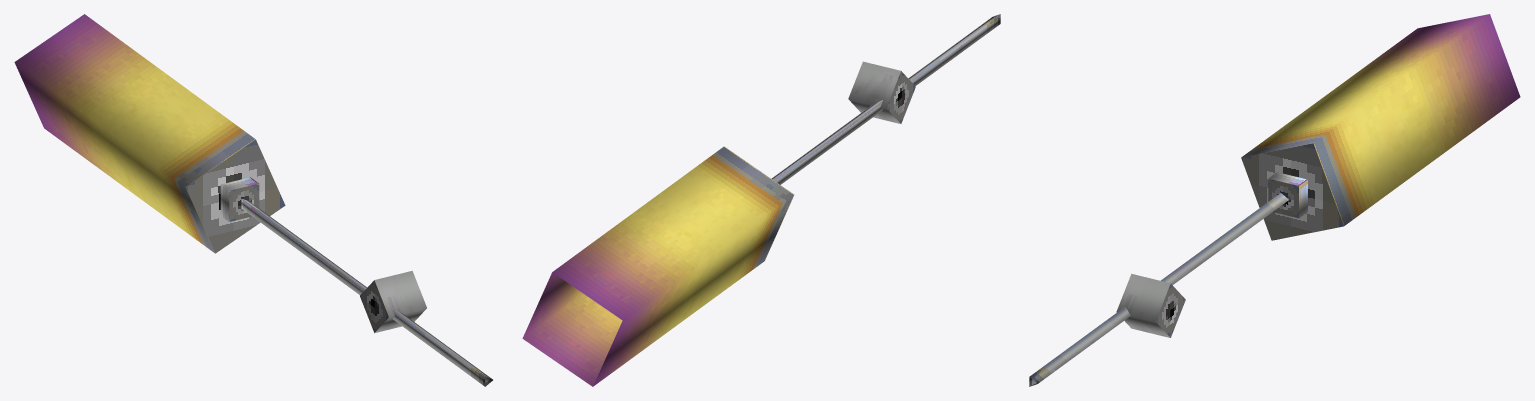
The model's file is nt_2020_light_modern_LOD2.obj.
3 renders of one model, left to right at view 1: azimuth 30°, elevation 25°; view 2: azimuth 150°, elevation 25°; view 3: azimuth 330°, elevation 25°, orthographic. The views are drawn at different scales.
Parts seen in each view (by area): view 1: mtl_nt_2020_light_modern_unlit, mtl_nt_2020_light_modern; view 2: mtl_nt_2020_light_modern_unlit, mtl_nt_2020_light_modern; view 3: mtl_nt_2020_light_modern_unlit, mtl_nt_2020_light_modern.
Part boxes in pixels (x1,y1,x2,y2): mtl_nt_2020_light_modern_unlit: (14, 14, 285, 253); mtl_nt_2020_light_modern: (220, 177, 492, 386); mtl_nt_2020_light_modern_unlit: (522, 146, 794, 386); mtl_nt_2020_light_modern: (771, 14, 1000, 184); mtl_nt_2020_light_modern_unlit: (1241, 14, 1520, 240); mtl_nt_2020_light_modern: (1029, 172, 1307, 386).
Bounding box in the file's own units: 5.98 × 5.98 × 43.99.
